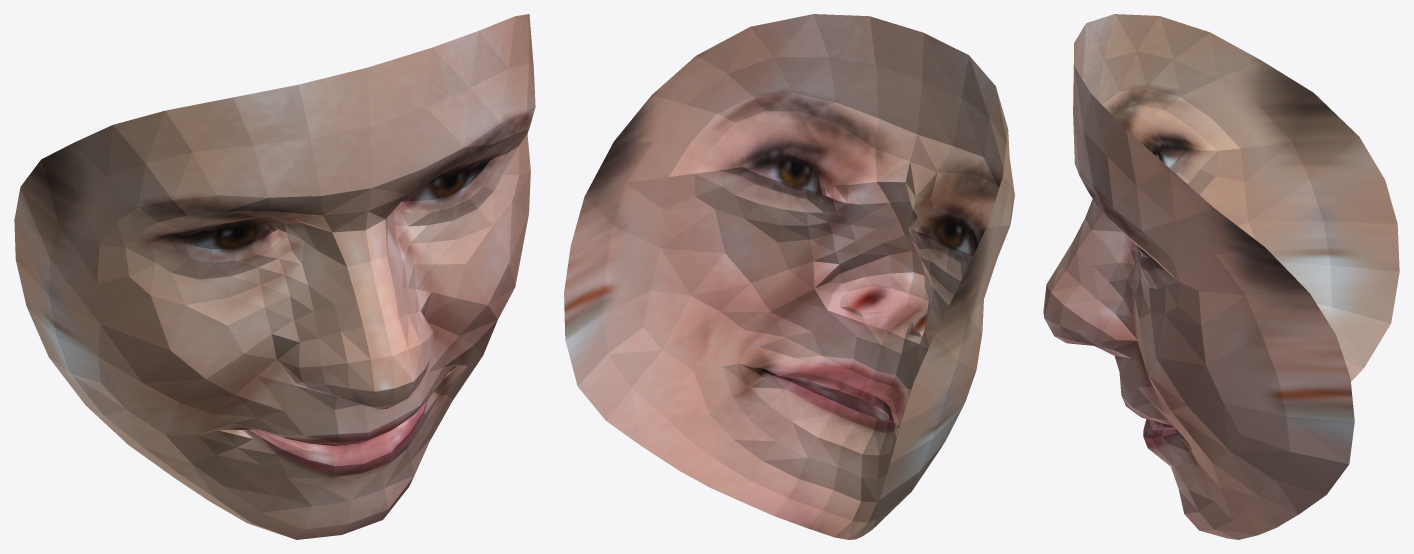
The picture shows the model from 3 angles, left to right: view 1: azimuth 30°, elevation 25°; view 2: azimuth 150°, elevation 25°; view 3: azimuth 270°, elevation 25°; orthographic projection. The views are drawn at different scales.
Parts seen in each view (by area): view 1: geometry_0; view 2: geometry_0; view 3: geometry_0.
Boxes of the visible parts, left/top/right/bottom form: geometry_0: left=14, top=14, right=535, bottom=539; geometry_0: left=564, top=14, right=1014, bottom=539; geometry_0: left=1043, top=14, right=1399, bottom=539.
Size of the model in its own units: 0.2508 by 0.2869 by 0.1985.
Materials: 1 (1 with a texture image).
